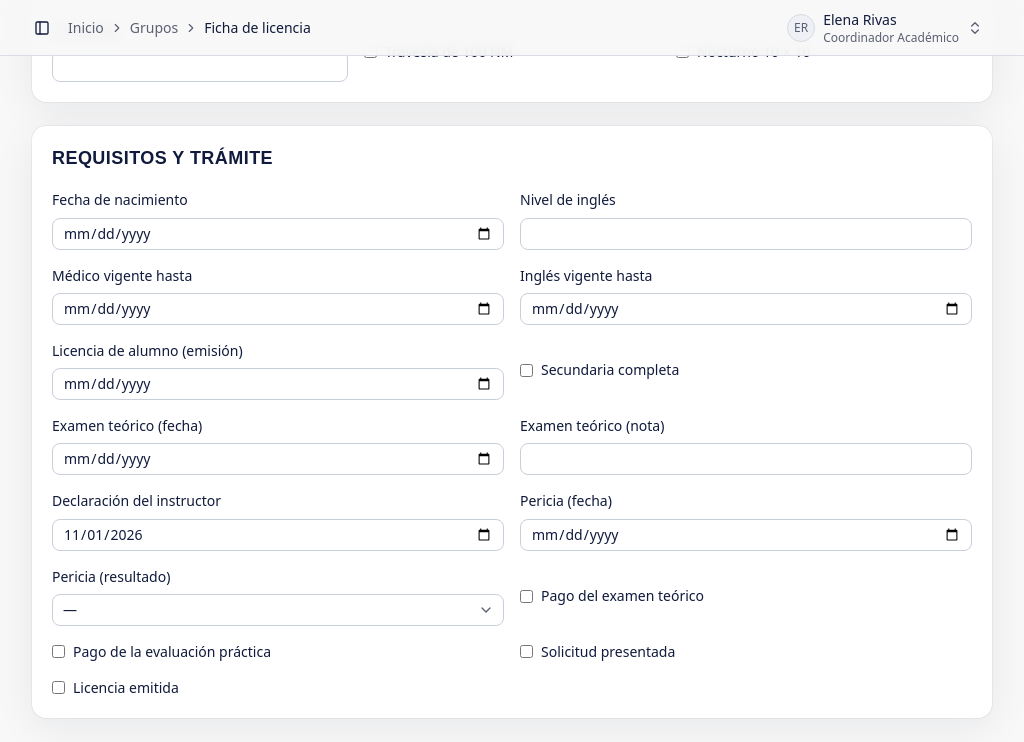
Test: Ficha de licencia (/fichas-licencia/$cod) › captura la emisión de la licencia de alumno y dispara la alerta de 24 meses
(page scrolled)
Type "2023-01-01" into the date field labelled "Licencia de alumno (emisión)".
click(278, 384); type("2023-01-01")  # box [52, 368, 504, 400]
(page scrolled)
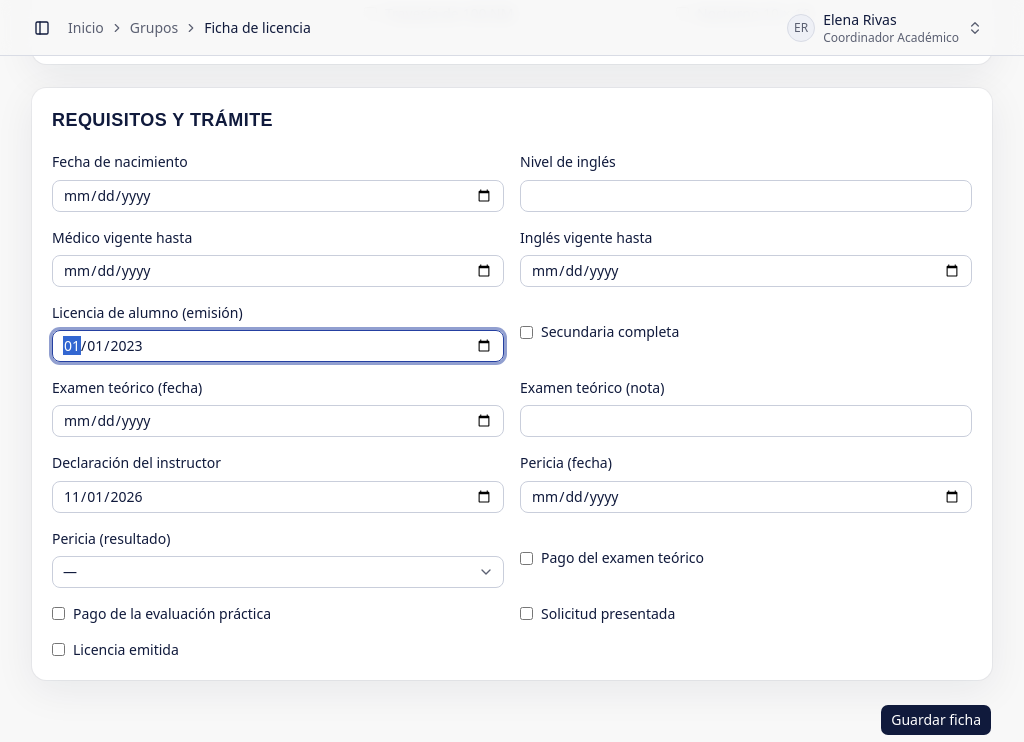
Click the button "Guardar ficha".
click(936, 720)  # box [880, 704, 992, 736]
(page scrolled)
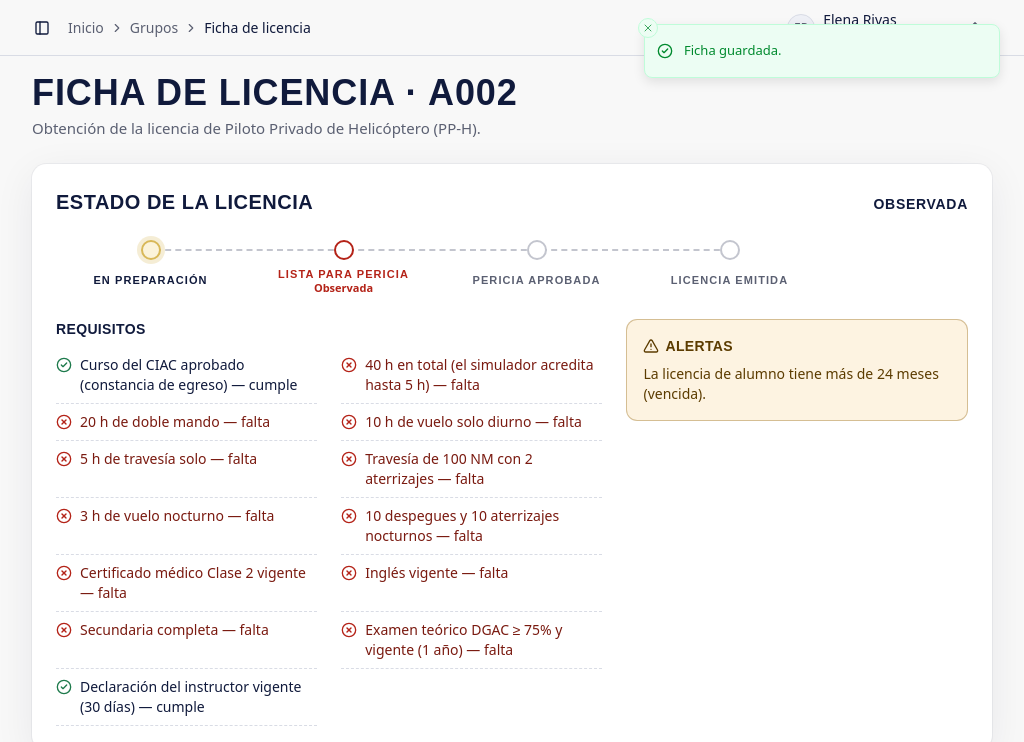
Result: the list item "La licencia de alumno tiene más de 24 meses (vencida)." is shown at [644, 364, 951, 404]
